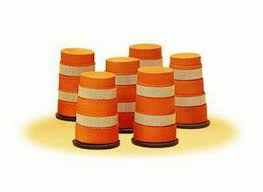barrel: (78, 74, 119, 149), (168, 54, 210, 126), (137, 66, 174, 142), (59, 47, 94, 124), (106, 57, 138, 133), (129, 45, 165, 71)
